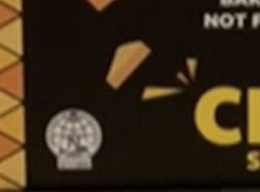halal: (52, 129, 93, 155)
